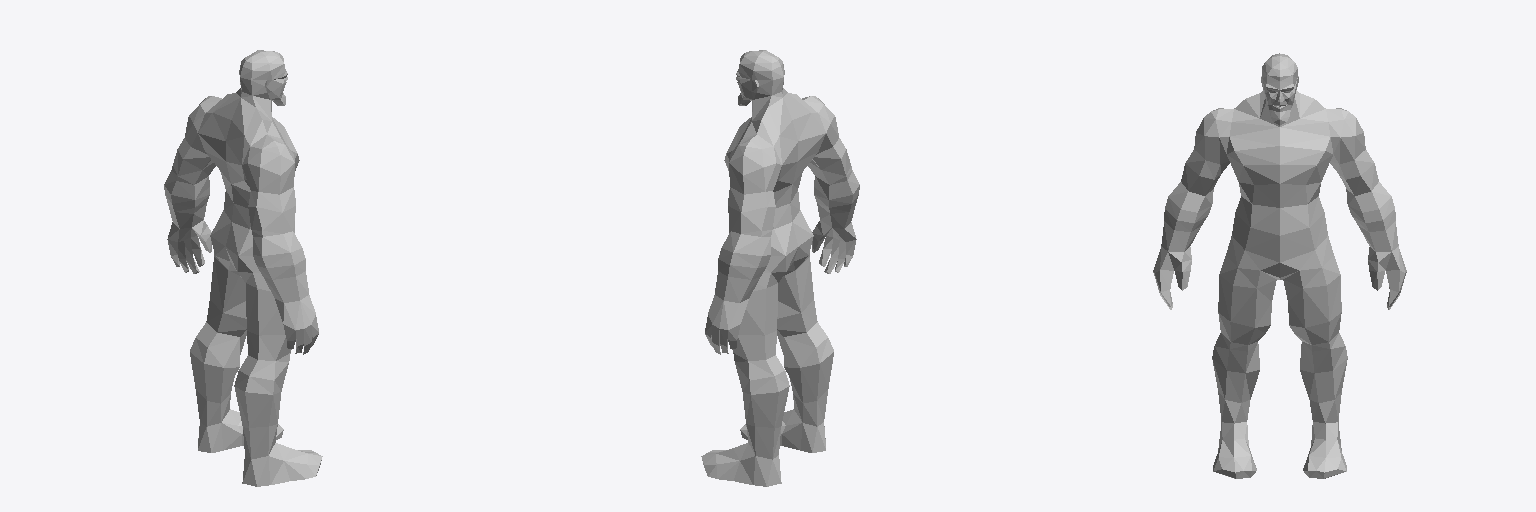
The model's file is humanmale.obj.
3 views of the same model, side by side, from view 1: azimuth 30°, elevation 25°; view 2: azimuth 150°, elevation 25°; view 3: azimuth 270°, elevation 25° (orthographic).
Visible parts, largest first — view 1: HumanMale; view 2: HumanMale; view 3: HumanMale.
Boxes of the visible parts, x1=… form: HumanMale: x1=164, y1=50, x2=322, y2=486; HumanMale: x1=701, y1=50, x2=859, y2=486; HumanMale: x1=1153, y1=53, x2=1406, y2=478.
Size of the model in its own units: 0.46 by 2.02 by 1.14.